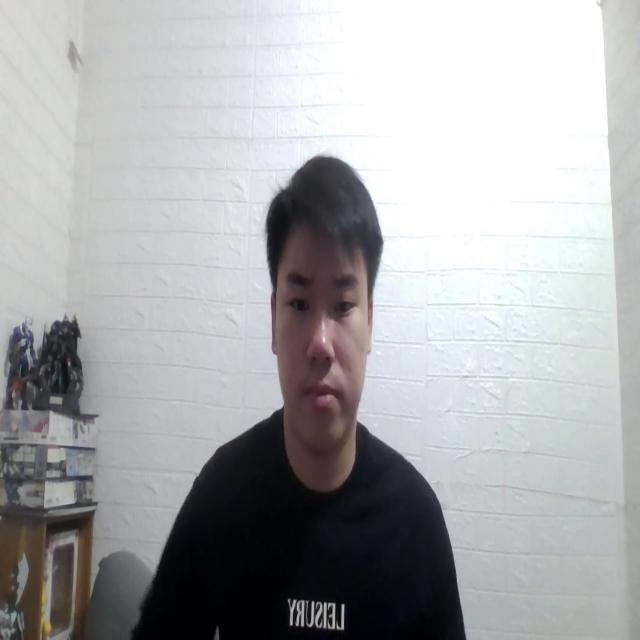student: (132, 154, 467, 640)
